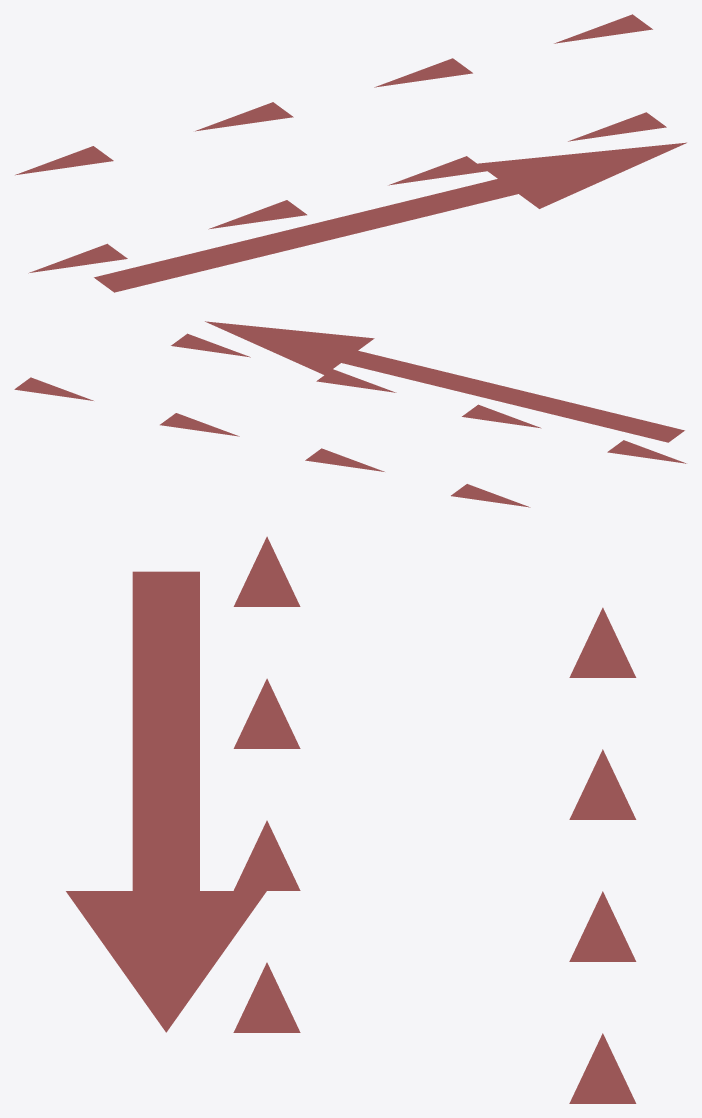
File: decal_graffiti_garages.glb
3 renders of one model, top to bottom at view 1: azimuth 30°, elevation 25°; view 2: azimuth 150°, elevation 25°; view 3: azimuth 270°, elevation 25°, orthographic. The views are drawn at different scales.
Parts seen in each view (by area): view 1: decal_graffiti_garages; view 2: decal_graffiti_garages; view 3: decal_graffiti_garages.
Boxes of the visible parts, <box> form: decal_graffiti_garages: <box>15,14,686,292</box>; decal_graffiti_garages: <box>14,321,686,507</box>; decal_graffiti_garages: <box>66,536,636,1103</box>.
Size of the model in its own units: 0.8 by 0 by 0.34.
